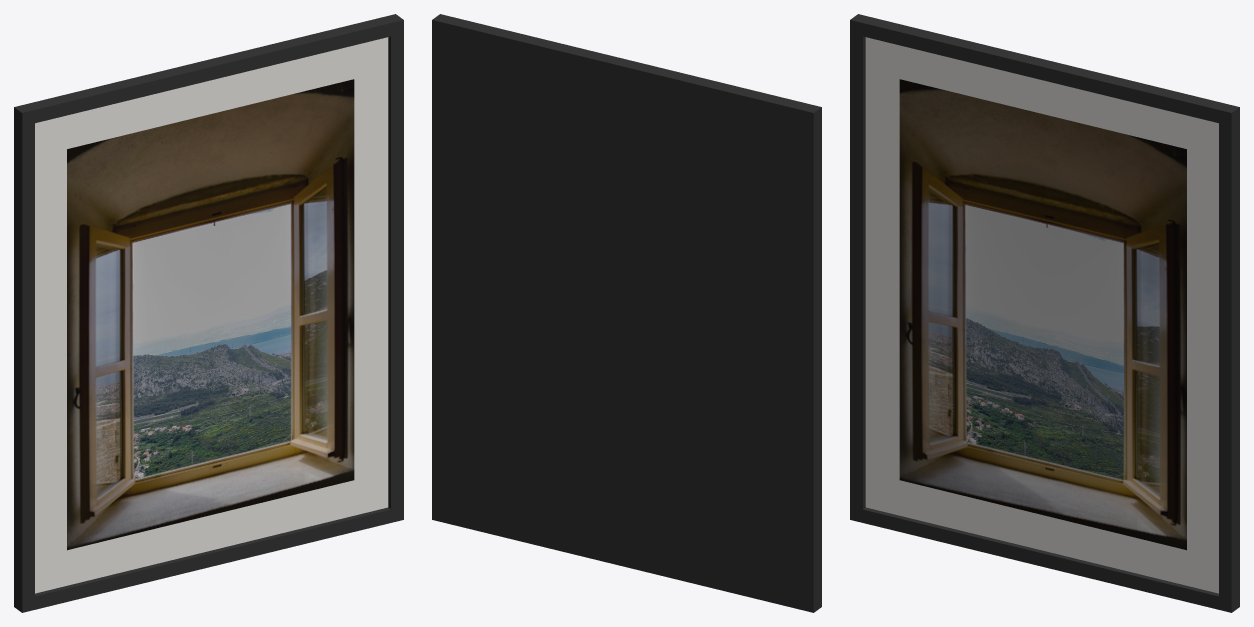
The model's file is fonstervy-60.gltf.
3 renders of one model, left to right at view 1: azimuth 30°, elevation 25°; view 2: azimuth 150°, elevation 25°; view 3: azimuth 330°, elevation 25°, orthographic.
Parts seen in each view (by area): view 1: tavla; view 2: tavla; view 3: tavla.
Boxes of the visible parts, x1=… form: tavla: x1=14, y1=14, x2=403, y2=612; tavla: x1=432, y1=14, x2=821, y2=612; tavla: x1=850, y1=14, x2=1239, y2=612.
Bounding box in the file's own units: 0.5976 × 0.7479 × 0.022.
Materials: 3 (1 with a texture image).
